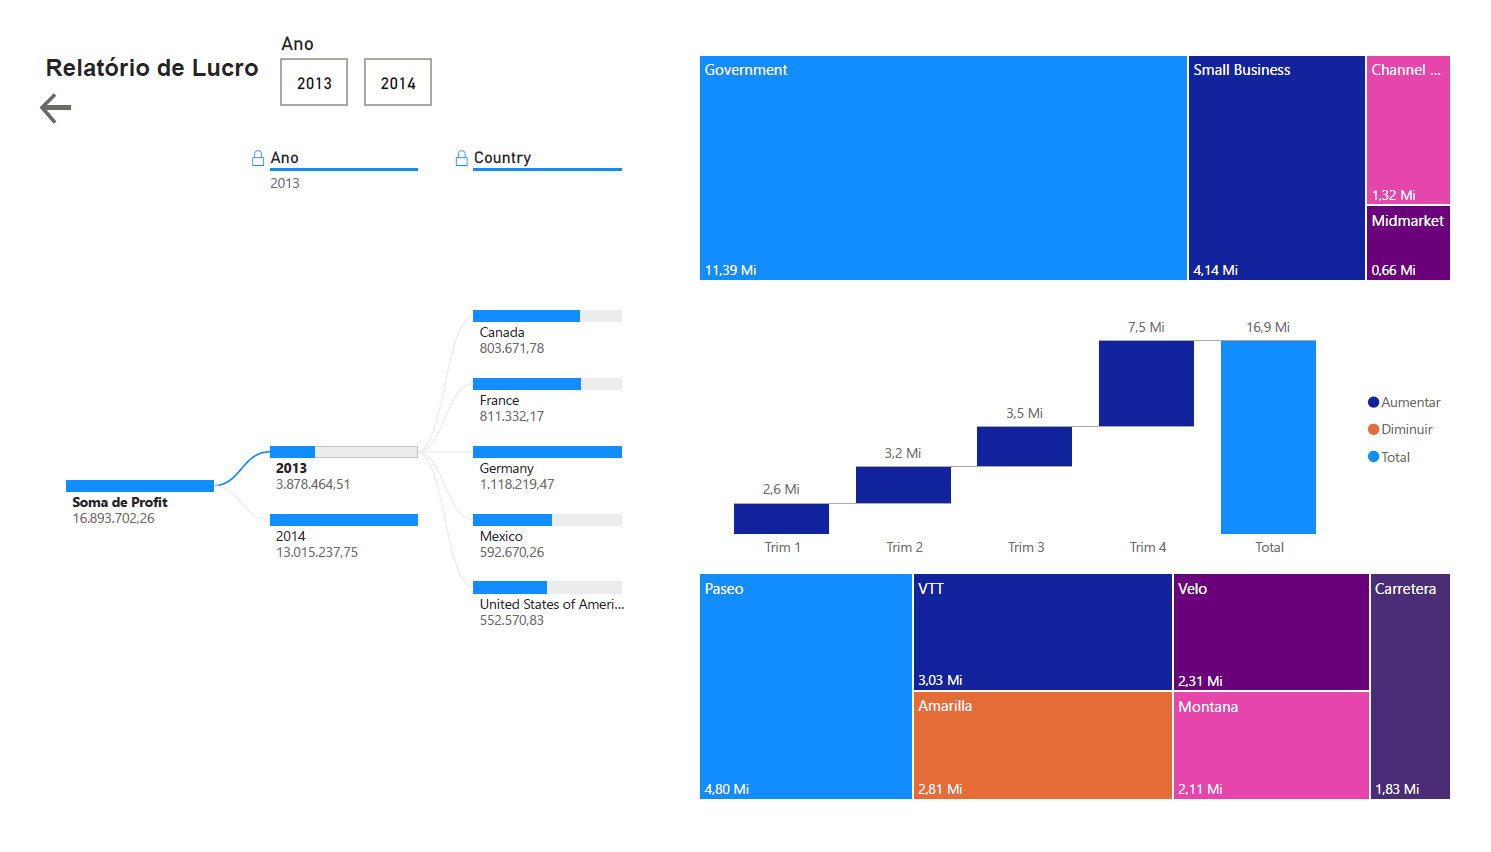

What the dashboard file says about the page in this screenshot:
{"tool":"powerbi","page":{"name":"Página 2","canvas":[1280,720],"ordinal":1},"visuals":[{"type":"textbox","box":[12.7,24.5,205.9,54.8],"z":0},{"type":"decompositionTreeVisual","fields":{"Analyze":["Sum(financials.Profit)"],"ExplainBy":["financials.Date.Variation.Hierarquia de datas.Ano","financials.Country"]},"box":[10.1,95.3,583.9,608.4],"z":2},{"type":"waterfallChart","fields":{"Y":["Sum(financials.Profit)"],"Category":["financials.Date.Variation.Hierarquia de datas.Trimestre"]},"box":[582.2,237.1,686,245.5],"z":3},{"type":"advancedSlicerVisual","fields":{"Values":["financials.Date.Variation.Hierarquia de datas.Ano"]},"box":[224.4,9.3,219.4,70],"z":5},{"type":"treemap","fields":{"Group":["financials.Product"],"Values":["Sum(financials.Profit)"]},"box":[594,482.6,674.2,210.1],"z":6},{"type":"treemap","fields":{"Values":["Sum(financials.Profit)"],"Group":["financials.Segment"]},"box":[594,24.5,674.2,210.1],"z":7},{"type":"actionButton","box":[12.7,59.1,44.7,36.3],"z":8}]}

Visuals, with their boxes in screenshot pixels (x1, y1, x2, y2), scaled from the page's 1280x720 canvas onto the 1491x852 screenshot:
textbox: [left=15, top=29, right=255, bottom=94]
decompositionTreeVisual - Sum(financials.Profit) x financials.Date.Variation.Hierarquia de datas.Ano: [left=12, top=113, right=692, bottom=833]
waterfallChart - Sum(financials.Profit) x financials.Date.Variation.Hierarquia de datas.Trimestre: [left=678, top=281, right=1477, bottom=571]
advancedSlicerVisual - financials.Date.Variation.Hierarquia de datas.Ano: [left=261, top=11, right=517, bottom=94]
treemap - financials.Product x Sum(financials.Profit): [left=692, top=571, right=1477, bottom=820]
treemap - Sum(financials.Profit) x financials.Segment: [left=692, top=29, right=1477, bottom=278]
actionButton: [left=15, top=70, right=67, bottom=113]
